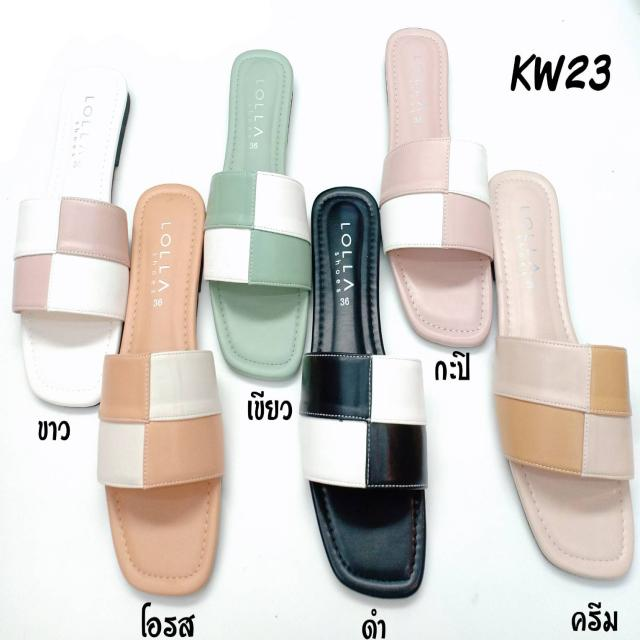black: (305, 183, 424, 588)
cream: (490, 166, 634, 586)
green: (205, 48, 306, 383)
kapi: (383, 23, 496, 348)
orot: (109, 181, 222, 593)
white: (18, 57, 128, 414)
